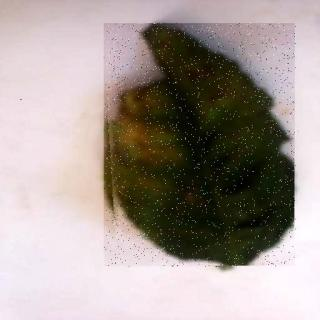Brown Blight: (106, 25, 298, 269)
